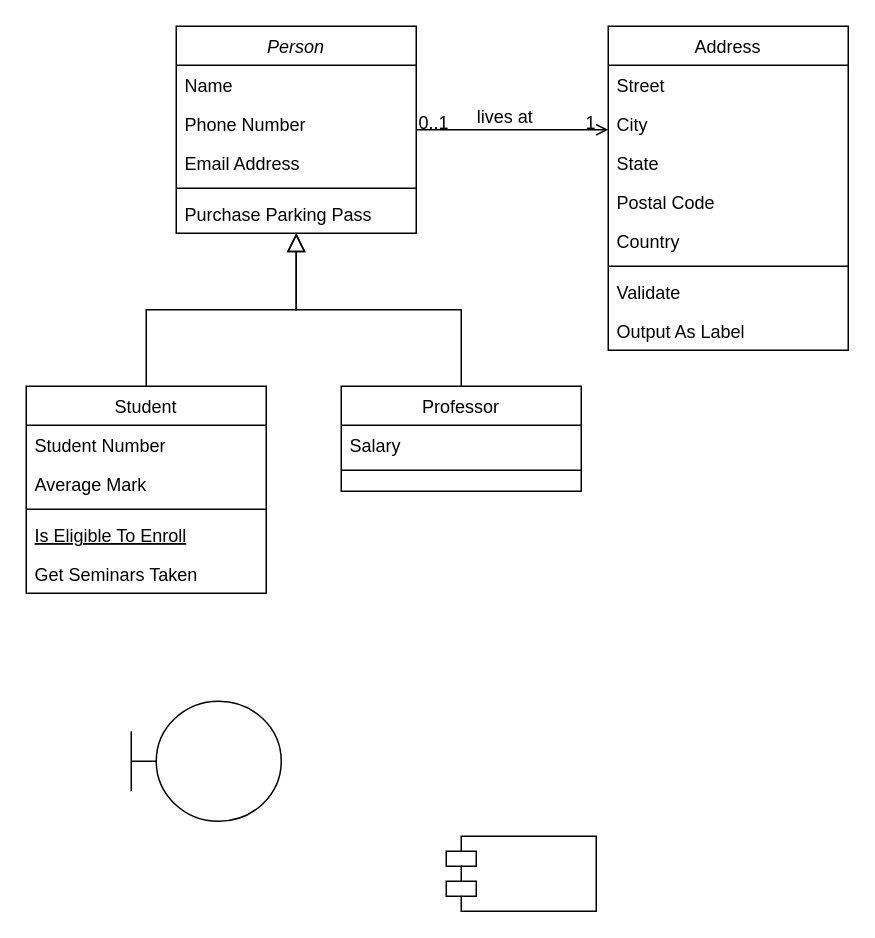
Image size: 875x938. Some labels were removed from this diagram. The centre of each missing label's shape, as x and y in pixels:
"Boundary Object" goes at [205,760].
"Module" goes at [520,873].
